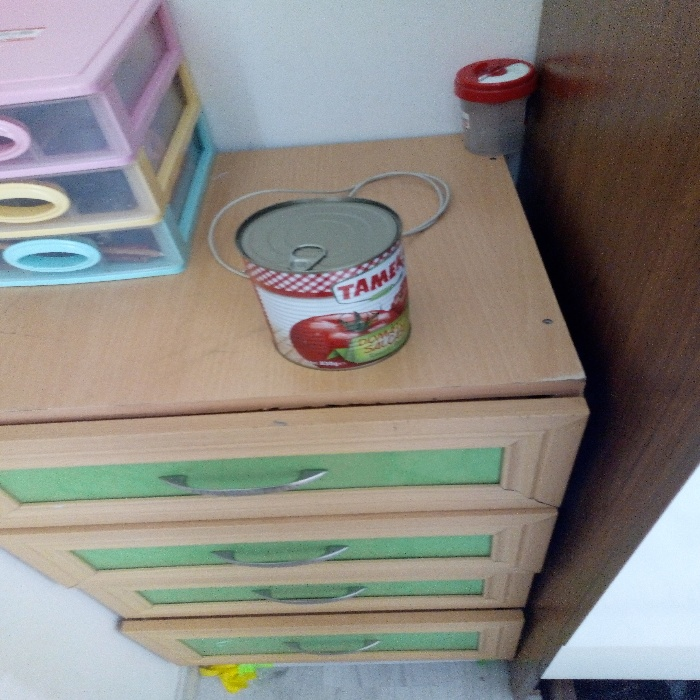salca: (239, 181, 436, 369)
